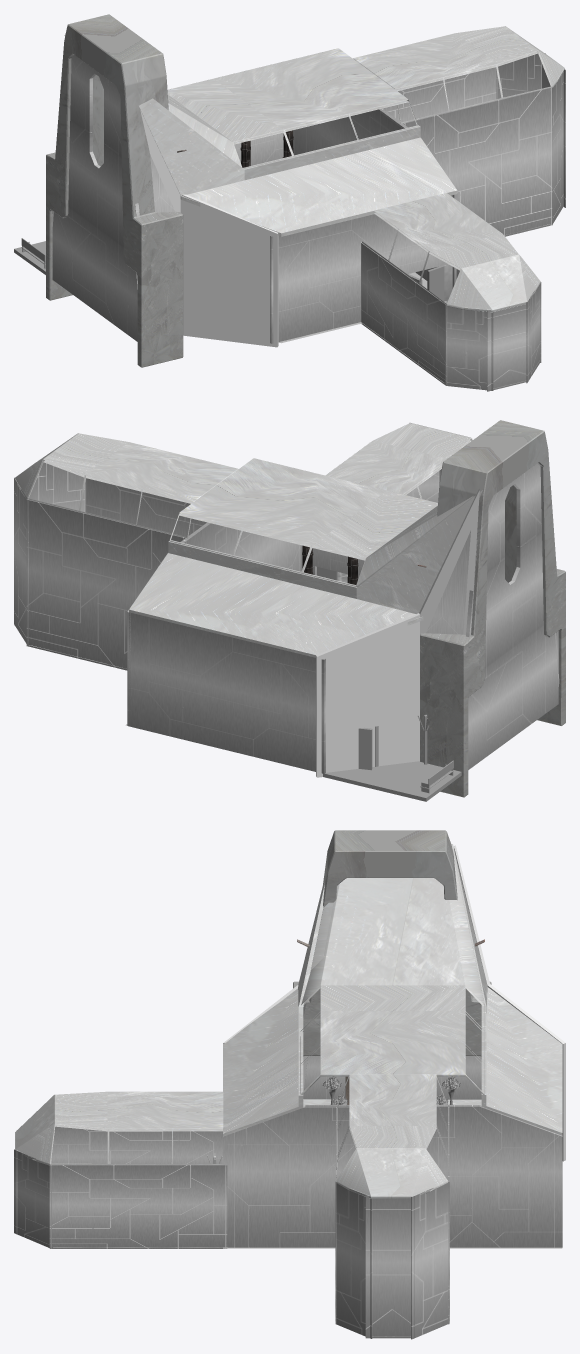
File: Church5.fbx
The picture shows the model from 3 angles, top to bottom: view 1: azimuth 30°, elevation 25°; view 2: azimuth 150°, elevation 25°; view 3: azimuth 270°, elevation 25°; orthographic projection. The views are drawn at different scales.
Parts seen in each view (by area): view 1: pCube228, pCube54, polySurface1568, pCube3, pCube283, polySurface771, pCube2, polySurface1572, polySurface1569, polySurface1571, polySurface1573, pCube284 (+9 smaller); view 2: pCube55, pCube4, pCube228, pCube284, polySurface772, polySurface1568, pCube3, polySurface1569, polySurface1572, pCube283, pCube8, pCube6 (+6 smaller); view 3: polySurface1568, pCube7, pCube6, polySurface1576, polySurface1569, pCube54, pCube55, polySurface1572, pCube228, pCube287, polySurface1571, pCube285 (+4 smaller).
Boxes of the visible parts, x1=… form: pCube228: x1=46, y1=14, x2=183, y2=367; pCube54: x1=139, y1=98, x2=457, y2=236; polySurface1568: x1=167, y1=48, x2=418, y2=168; pCube3: x1=52, y1=55, x2=139, y2=341; pCube283: x1=403, y1=87, x2=552, y2=236; polySurface771: x1=136, y1=110, x2=278, y2=347; pCube2: x1=270, y1=195, x2=452, y2=343; polySurface1572: x1=362, y1=193, x2=540, y2=312; polySurface1569: x1=353, y1=26, x2=564, y2=123; polySurface1571: x1=361, y1=242, x2=446, y2=385; polySurface1573: x1=447, y1=306, x2=493, y2=390; pCube284: x1=382, y1=67, x2=496, y2=122; pCube55: x1=129, y1=489, x2=483, y2=657; pCube4: x1=129, y1=612, x2=325, y2=773; pCube228: x1=420, y1=420, x2=565, y2=797; pCube284: x1=26, y1=499, x2=185, y2=670; polySurface772: x1=316, y1=489, x2=479, y2=777; polySurface1568: x1=169, y1=458, x2=473, y2=586; pCube3: x1=466, y1=463, x2=558, y2=769; polySurface1569: x1=14, y1=433, x2=238, y2=538; polySurface1572: x1=325, y1=422, x2=472, y2=498; pCube283: x1=85, y1=478, x2=206, y2=536; pCube8: x1=323, y1=761, x2=461, y2=801; pCube6: x1=217, y1=525, x2=301, y2=571; polySurface1568: x1=300, y1=858, x2=484, y2=1095; pCube7: x1=426, y1=1105, x2=562, y2=1247; pCube6: x1=223, y1=1105, x2=355, y2=1247; polySurface1576: x1=49, y1=1165, x2=227, y2=1248; polySurface1569: x1=336, y1=1074, x2=448, y2=1198; pCube54: x1=223, y1=880, x2=324, y2=1136; pCube55: x1=451, y1=844, x2=562, y2=1135; polySurface1572: x1=15, y1=1091, x2=223, y2=1165; pCube228: x1=293, y1=830, x2=491, y2=1056; pCube287: x1=365, y1=1195, x2=414, y2=1338; polySurface1571: x1=51, y1=1126, x2=223, y2=1163; pCube285: x1=411, y1=1181, x2=449, y2=1339.
Bounding box in the file's own units: 27.08 × 16.25 × 27.1.
